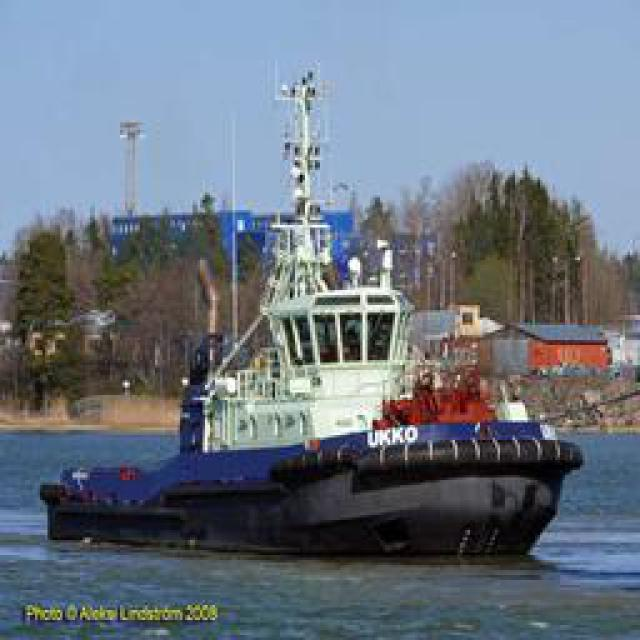Ship: (25, 221, 590, 556)
